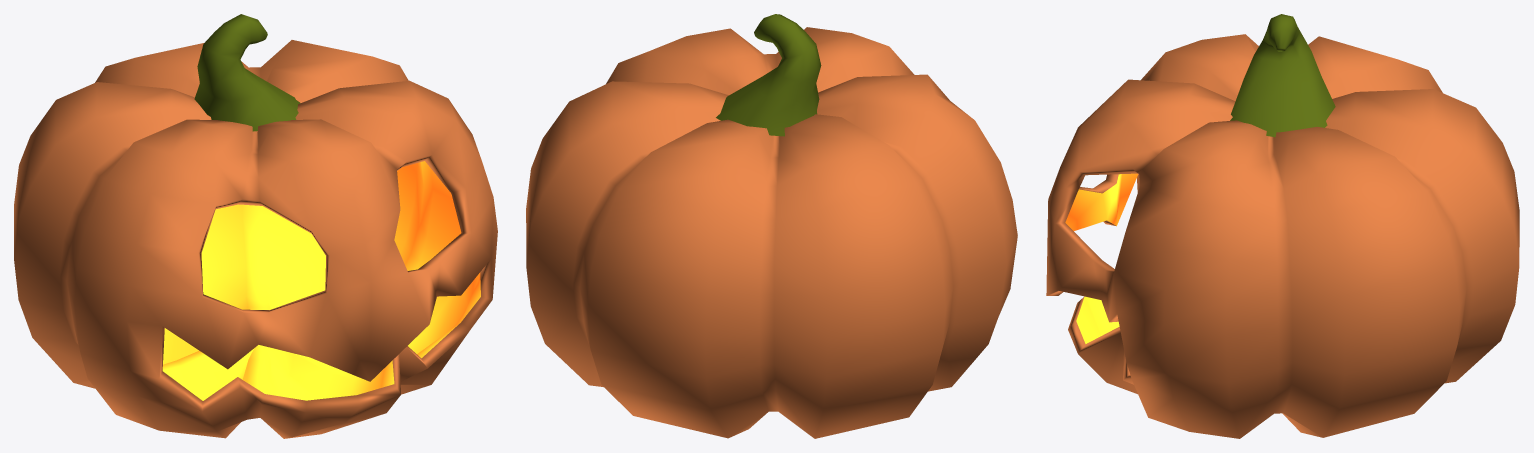
The model's file is pumpkin_6.fbx.
3 renders of one model, left to right at view 1: azimuth 30°, elevation 25°; view 2: azimuth 150°, elevation 25°; view 3: azimuth 270°, elevation 25°, orthographic. The views are drawn at different scales.
Parts seen in each view (by area): view 1: pumpkin_6; view 2: pumpkin_6; view 3: pumpkin_6.
Part boxes in pixels (x1,y1,x2,y2): pumpkin_6: (14, 14, 497, 438); pumpkin_6: (526, 14, 1017, 438); pumpkin_6: (1046, 14, 1519, 438).
Size of the model in its own units: 119 by 101 by 120.
